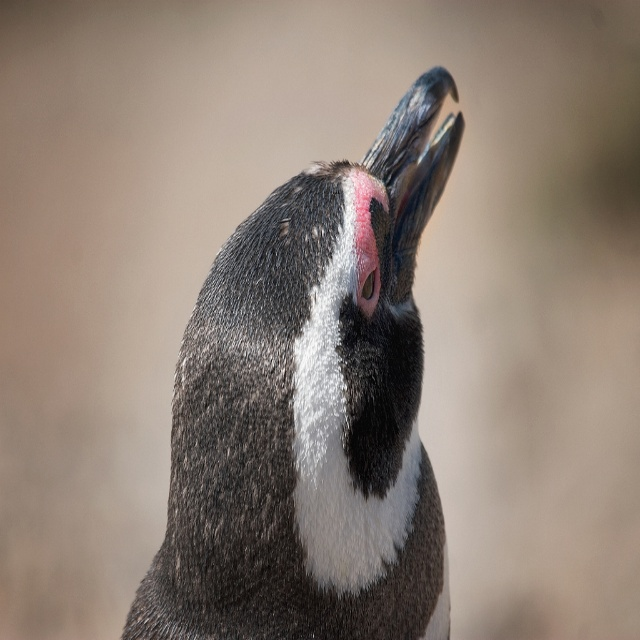Penguin: (99, 71, 448, 630)
